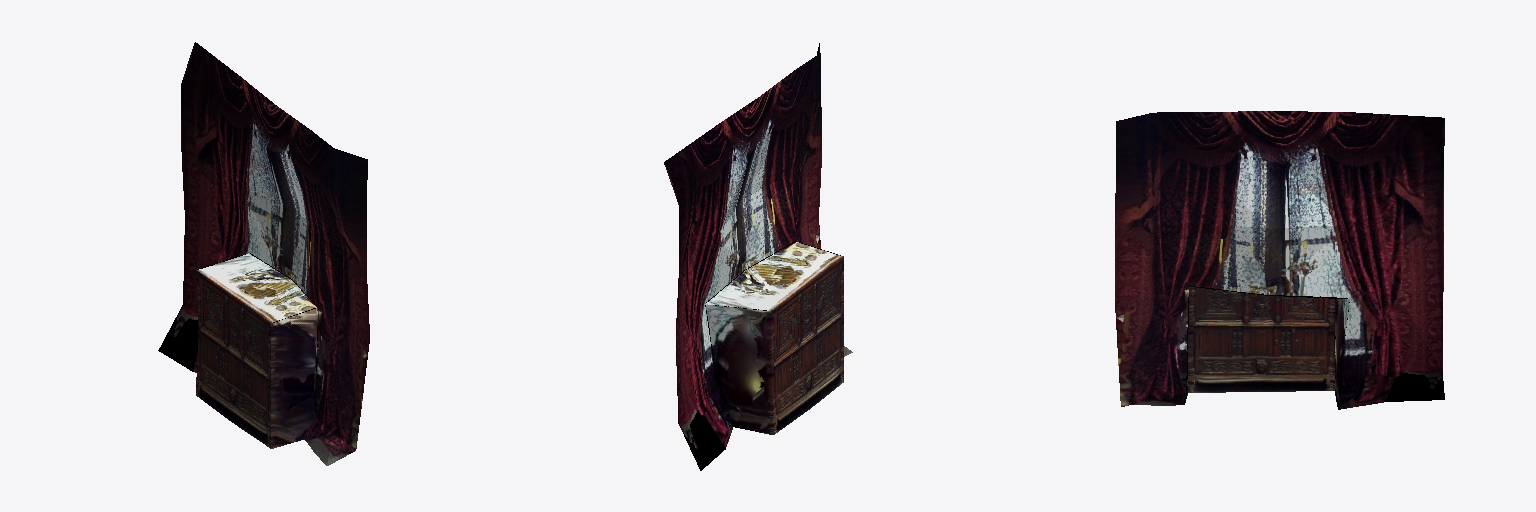
3 renders of one model, left to right at view 1: azimuth 30°, elevation 25°; view 2: azimuth 150°, elevation 25°; view 3: azimuth 270°, elevation 25°, orthographic.
Parts seen in each view (by area): view 1: Kitchen_GEO_GRP1_Kitchen_115; view 2: Kitchen_GEO_GRP1_Kitchen_115; view 3: Kitchen_GEO_GRP1_Kitchen_115.
Part boxes in pixels (left/top/right/bottom): Kitchen_GEO_GRP1_Kitchen_115: left=158, top=42, right=369, bottom=465; Kitchen_GEO_GRP1_Kitchen_115: left=664, top=43, right=852, bottom=470; Kitchen_GEO_GRP1_Kitchen_115: left=1115, top=111, right=1444, bottom=409.
Size of the model in its own units: 0.6944 by 3.06 by 3.02.
1 materials, 1 textured.